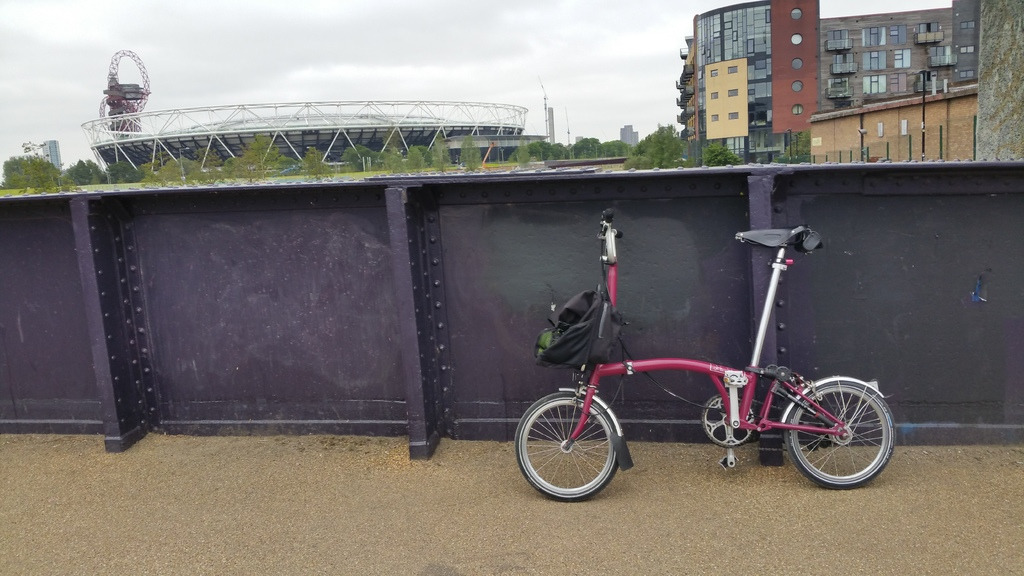Bike: (509, 219, 902, 525)
